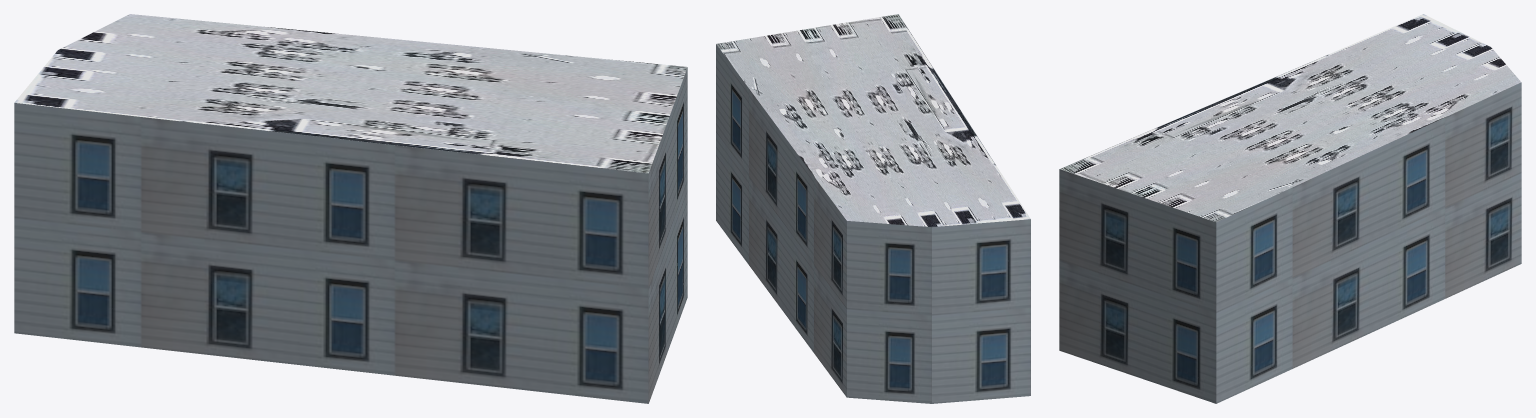
The model's file is ResTex__3108.fbx.
3 renders of one model, left to right at view 1: azimuth 30°, elevation 25°; view 2: azimuth 150°, elevation 25°; view 3: azimuth 270°, elevation 25°, orthographic. The views are drawn at different scales.
Parts seen in each view (by area): view 1: CityEngineMaterial_18_m, CityEngineMaterial_4_m; view 2: CityEngineMaterial_18_m, CityEngineMaterial_4_m; view 3: CityEngineMaterial_18_m, CityEngineMaterial_4_m.
Boxes of the visible parts, x1,y1,x2,y2 form: CityEngineMaterial_18_m: [14, 68, 687, 403]; CityEngineMaterial_4_m: [14, 14, 687, 173]; CityEngineMaterial_18_m: [716, 44, 1030, 403]; CityEngineMaterial_4_m: [716, 14, 1030, 226]; CityEngineMaterial_18_m: [1059, 82, 1521, 403]; CityEngineMaterial_4_m: [1060, 14, 1521, 222].
Size of the model in its own units: 14.77 by 6 by 13.83.
2 materials, 2 textured.
